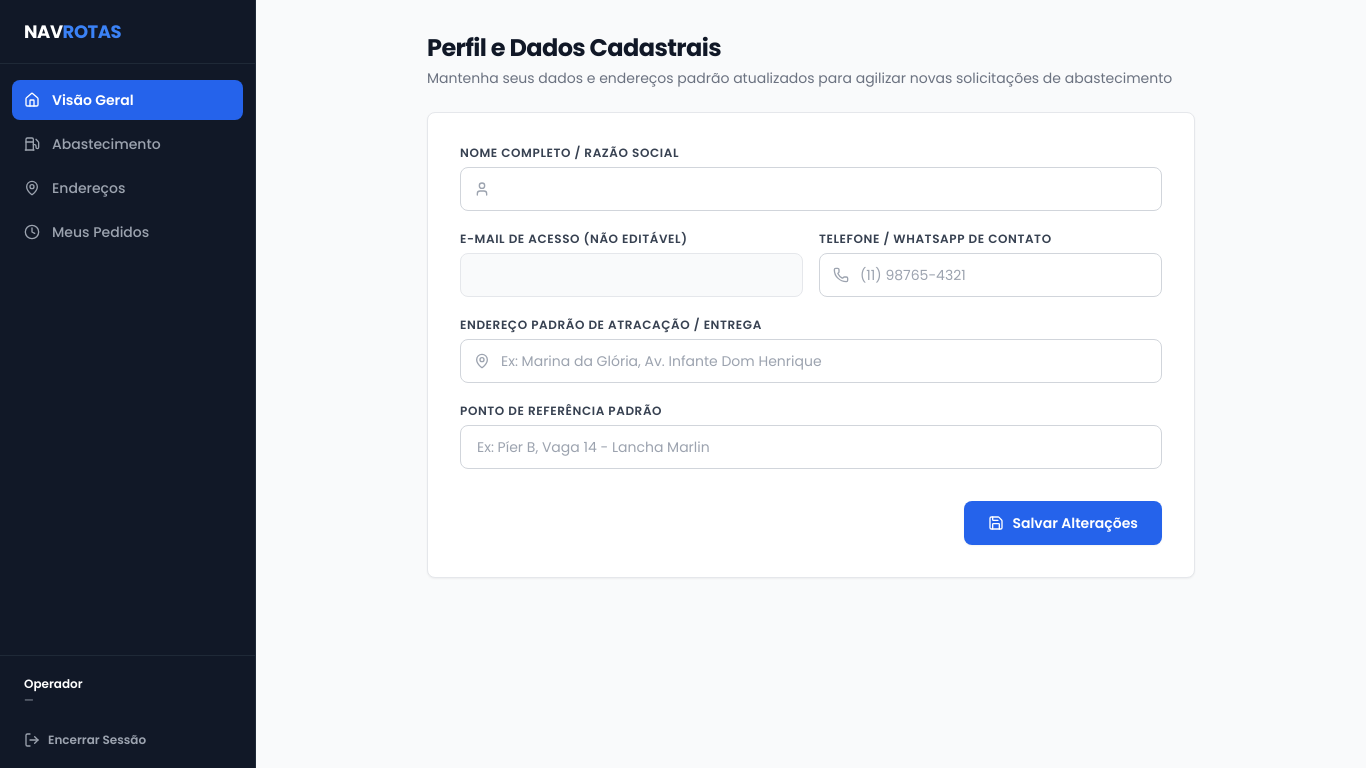
Test case: PerfilPage › exibe mensagem defensiva de erro caso user.id não esteja disponível no submit (FE-02)
The width and height of the screenshot is (1366, 768).
Type "Cliente Sem Id" into the field labelled "Nome Completo / Razão Social".
click(811, 189); type("Cliente Sem Id")  # box [460,167,1162,211]
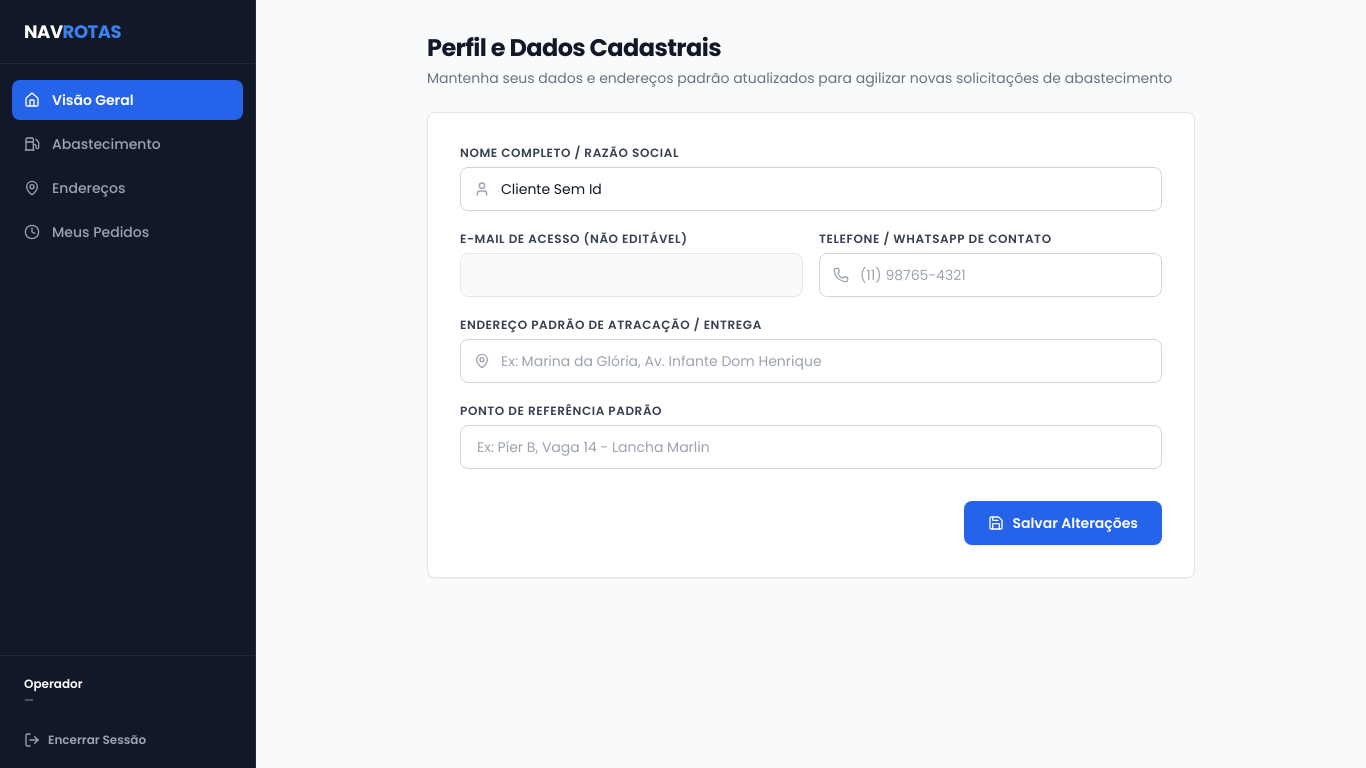
Click the button "Salvar Alterações".
click(1063, 523)  # box [964,501,1162,545]
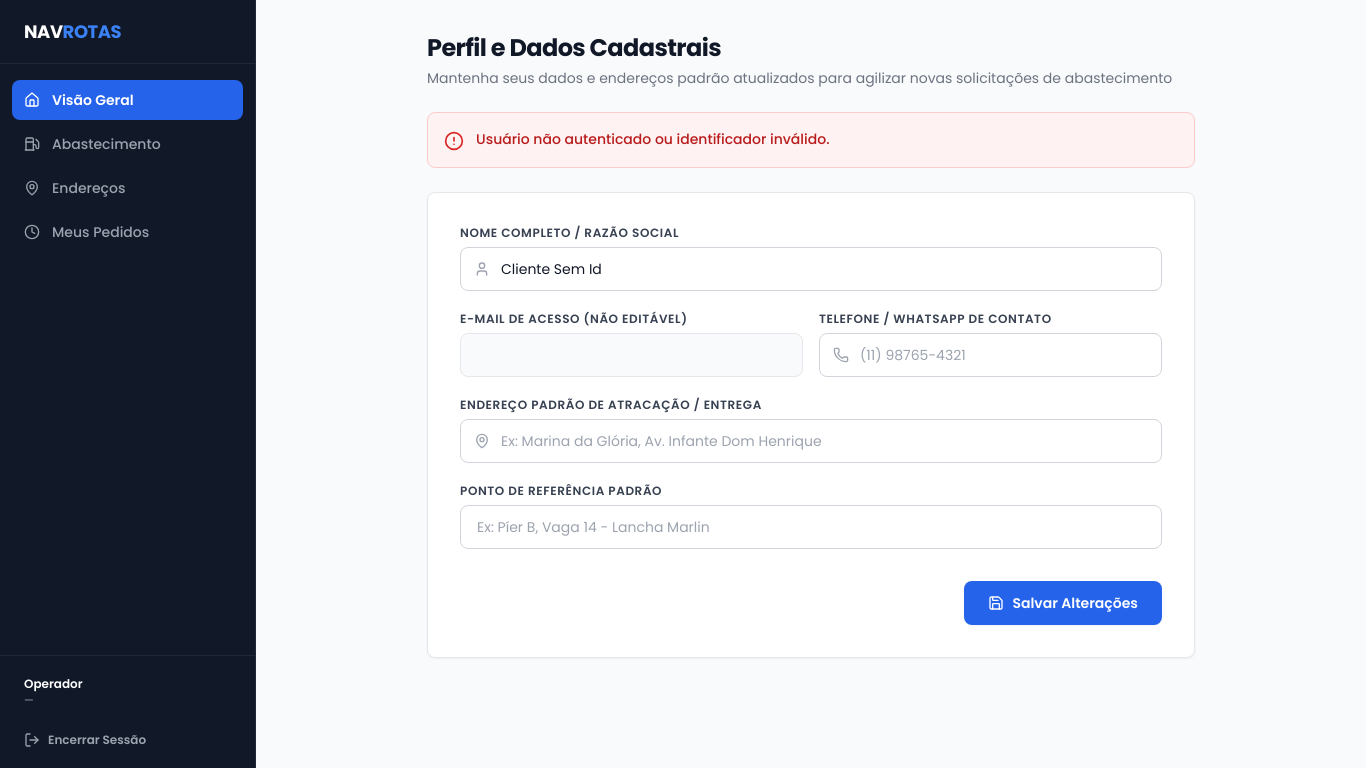
Now the text "Usuário não autenticado ou identificador inválido." is shown, box [476,129,830,149]
